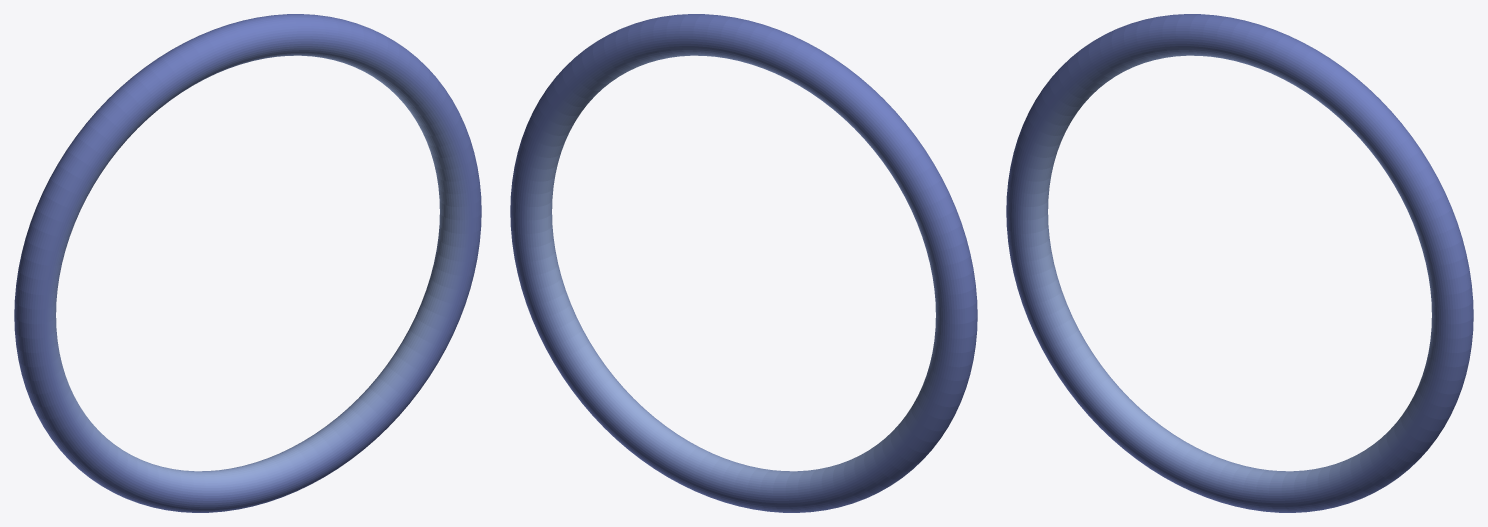
3 views of the same model, side by side, from view 1: azimuth 30°, elevation 25°; view 2: azimuth 150°, elevation 25°; view 3: azimuth 330°, elevation 25° (orthographic).
Parts seen in each view (by area): view 1: world; view 2: world; view 3: world.
Part boxes in pixels (x1,y1,x2,y2): world: (14,14,481,512); world: (510,14,977,512); world: (1006,14,1473,512).
Bounding box in the file's own units: 28.93 × 28.93 × 2.26.
